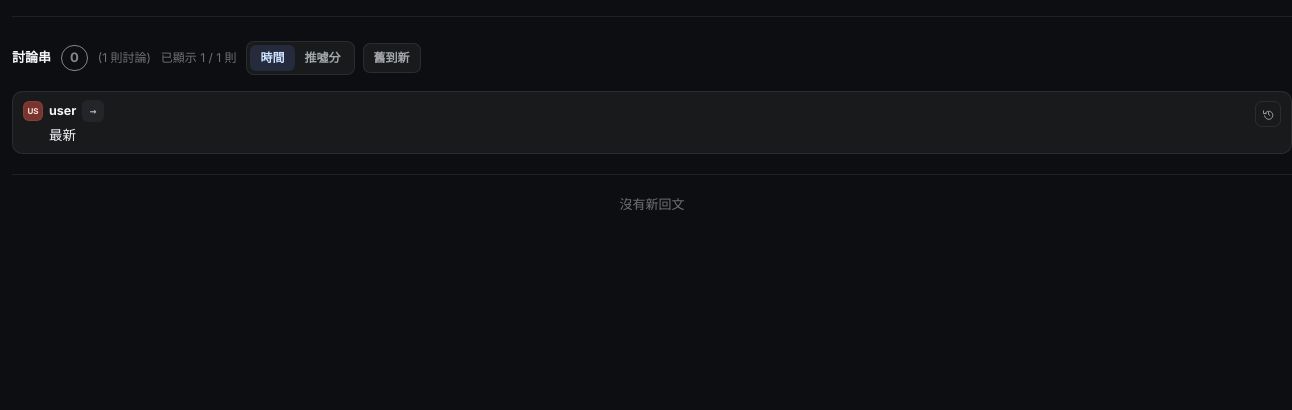
PushThread › shows operation results without mistaking the first edit for the original
Click the button named "編輯歷史". click: (1268, 114)
box: x1=1255 y1=101 x2=1281 y2=127
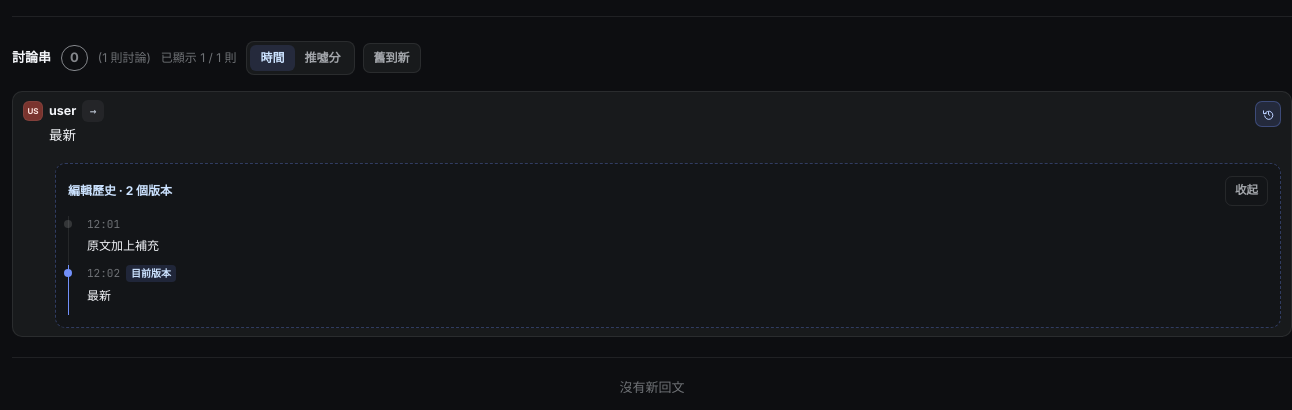
Expected: the text "原文加上補充" is shown, x1=87 y1=238 x2=159 y2=253
Expected: the text "目前版本" is shown, x1=126 y1=265 x2=176 y2=282
